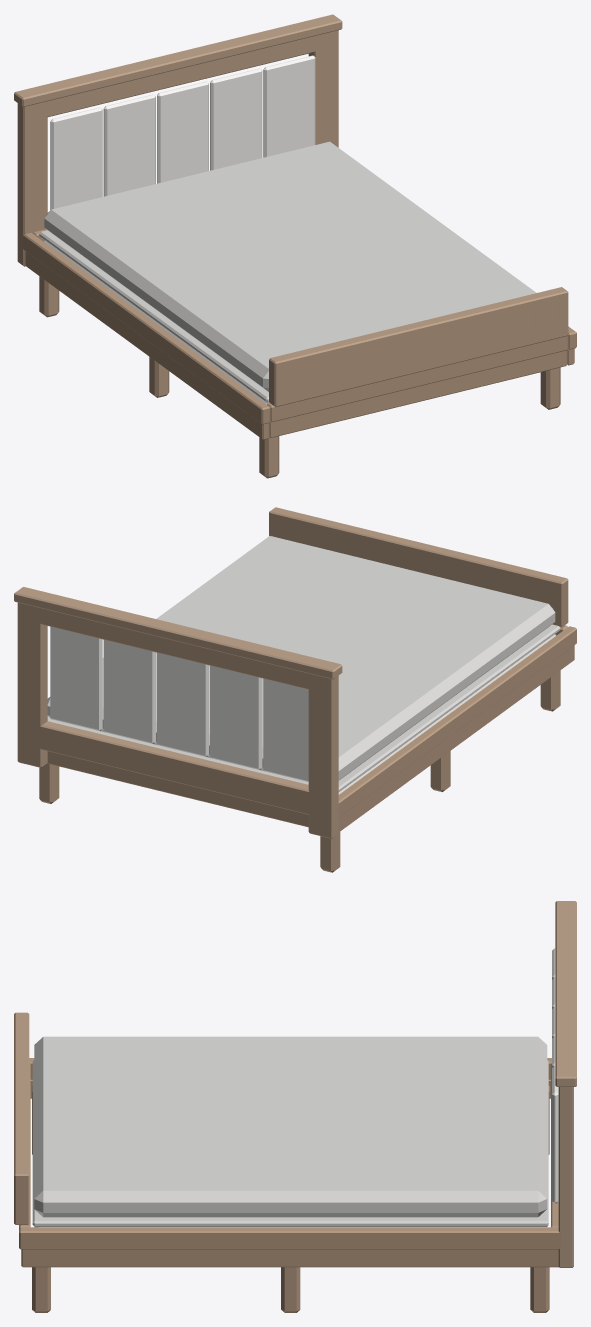
3 renders of one model, top to bottom at view 1: azimuth 30°, elevation 25°; view 2: azimuth 150°, elevation 25°; view 3: azimuth 270°, elevation 25°, orthographic. The views are drawn at different scales.
Parts seen in each view (by area): view 1: Mattress, HeadboardPanel, Frame, Headboard, FootRail, Legs; view 2: Mattress, Headboard, HeadboardPanel, Frame, FootRail, Legs; view 3: Mattress, Frame, Headboard, FootRail, Legs, HeadboardPanel.
Boxes of the visible parts, bbox=[...] form: Mattress: bbox=[39, 141, 536, 404]; HeadboardPanel: bbox=[50, 55, 315, 209]; Frame: bbox=[22, 229, 576, 439]; Headboard: bbox=[14, 14, 342, 266]; FootRail: bbox=[269, 287, 568, 407]; Legs: bbox=[39, 276, 560, 478]; Mattress: bbox=[47, 536, 560, 794]; Headboard: bbox=[14, 587, 342, 838]; HeadboardPanel: bbox=[50, 626, 308, 781]; Frame: bbox=[47, 625, 576, 832]; FootRail: bbox=[269, 507, 568, 627]; Legs: bbox=[39, 670, 560, 872]; Mattress: bbox=[32, 1036, 548, 1227]; Frame: bbox=[19, 1058, 560, 1267]; Headboard: bbox=[555, 901, 576, 1267]; FootRail: bbox=[14, 1012, 29, 1224]; Legs: bbox=[32, 1085, 549, 1312]; HeadboardPanel: bbox=[552, 948, 558, 1203].
Size of the model in its own units: 1.63 by 1.05 by 2.2.
